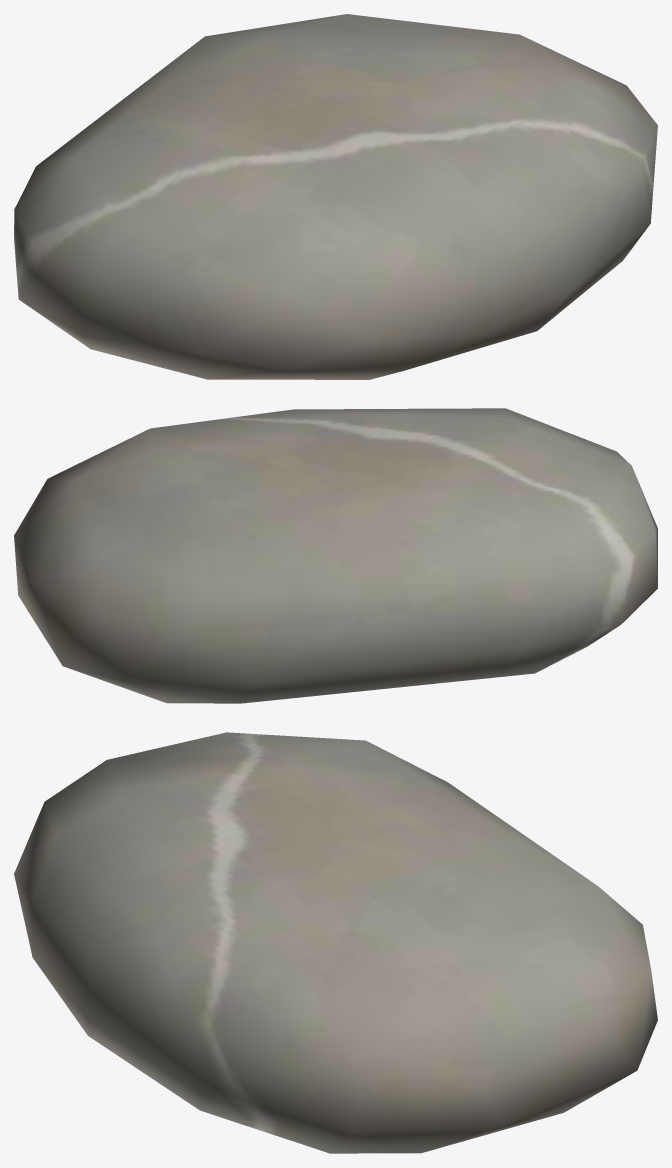
Rendered from RiverCobble.glb.
The picture shows the model from 3 angles, top to bottom: view 1: azimuth 30°, elevation 25°; view 2: azimuth 150°, elevation 25°; view 3: azimuth 270°, elevation 25°; orthographic projection. The views are drawn at different scales.
Visible parts, largest first — view 1: stone_5; view 2: stone_5; view 3: stone_5.
Part boxes in pixels (bbox=[...]): stone_5: bbox=[14, 14, 657, 379]; stone_5: bbox=[14, 408, 657, 703]; stone_5: bbox=[14, 732, 657, 1153].
Bounding box in the file's own units: 0.2951 × 0.0944 × 0.2634.
1 material, 1 textured.
